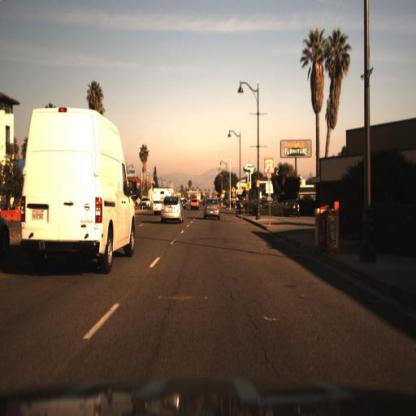car: (160, 193, 183, 229), (201, 198, 219, 223), (283, 197, 300, 221), (189, 195, 201, 212)
truck: (22, 106, 135, 280), (153, 183, 176, 219)
